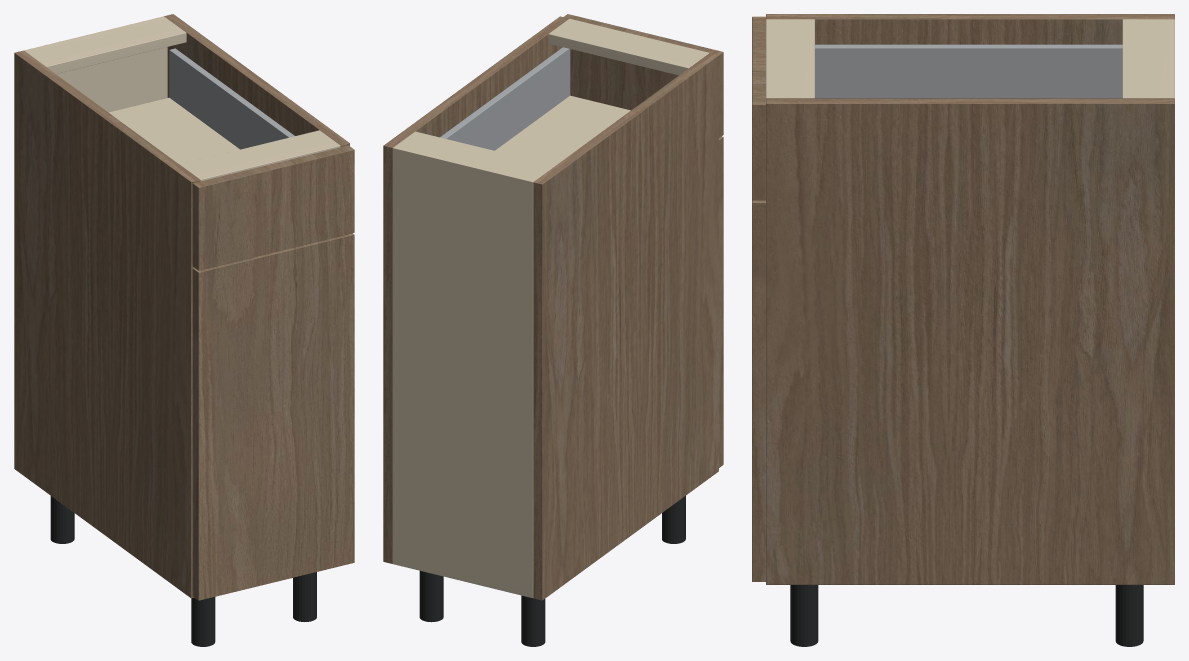
The model's file is oppein-ply-mnw-b12.glb.
3 views of the same model, side by side, from view 1: azimuth 30°, elevation 25°; view 2: azimuth 150°, elevation 25°; view 3: azimuth 270°, elevation 25° (orthographic). The views are drawn at different scales.
Visible parts, largest first — view 1: Cabinet side, Door, Drawer front, Drawer side.001, Cabinet back, Cabinet side.001, Drawer floor, Top support rail, Top support rail.001, Adjustable foot.001, Adjustable foot.003, Adjustable foot; view 2: Cabinet side, Cabinet back, Cabinet side.001, Drawer side.001, Drawer front, Drawer floor, Top support rail.001, Top support rail, Door, Adjustable foot, Adjustable foot.002, Adjustable foot.001; view 3: Cabinet side.001, Drawer side, Cabinet side, Door, Top support rail.001, Top support rail, Drawer front, Adjustable foot.002, Adjustable foot.003, Cabinet back.
Boxes of the visible parts, x1,y1,x2,y2 form: Cabinet side: (14, 50, 200, 598); Door: (192, 233, 354, 600); Drawer front: (192, 145, 354, 270); Drawer side.001: (169, 48, 294, 149); Cabinet back: (24, 16, 167, 112); Cabinet side.001: (164, 14, 349, 146); Drawer floor: (108, 97, 239, 164); Top support rail: (25, 18, 186, 73); Top support rail.001: (179, 130, 340, 181); Adjustable foot.001: (191, 597, 215, 646); Adjustable foot.003: (293, 572, 316, 621); Adjustable foot: (50, 496, 74, 543); Cabinet side: (533, 53, 718, 600); Cabinet back: (393, 145, 535, 597); Cabinet side.001: (383, 16, 568, 563); Drawer side.001: (440, 47, 570, 150); Drawer front: (564, 14, 723, 137); Drawer floor: (495, 95, 630, 165); Top support rail.001: (548, 18, 709, 75); Top support rail: (396, 131, 554, 179); Door: (719, 136, 723, 467); Adjustable foot: (521, 595, 545, 646); Adjustable foot.002: (419, 571, 443, 622); Adjustable foot.001: (662, 496, 685, 543); Cabinet side.001: (766, 98, 1174, 584); Drawer side: (815, 44, 1122, 98); Cabinet side: (766, 14, 1174, 44); Door: (752, 200, 765, 581); Top support rail.001: (766, 19, 814, 98); Top support rail: (1122, 19, 1166, 98); Drawer front: (752, 16, 765, 200); Adjustable foot.002: (1115, 585, 1143, 646); Adjustable foot.003: (790, 585, 818, 646); Cabinet back: (1167, 19, 1174, 98).
Size of the model in its own units: 0.3048 by 0.8763 by 0.6064.
Materials: 4 (1 with a texture image).
